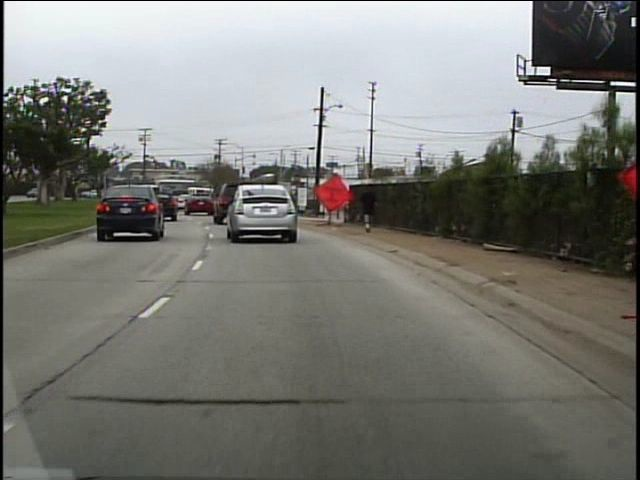person: (357, 179, 383, 234)
